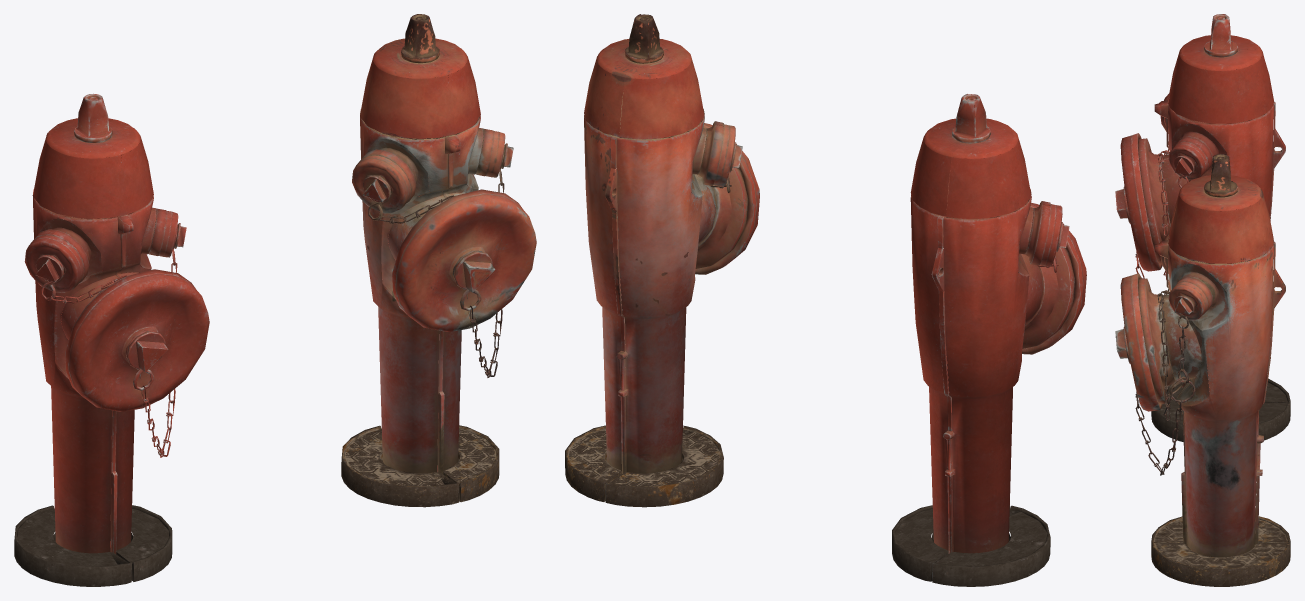
File: fire_hydrant.gltf
3 renders of one model, left to right at view 1: azimuth 30°, elevation 25°; view 2: azimuth 150°, elevation 25°; view 3: azimuth 270°, elevation 25°, orthographic. The views are drawn at different scales.
Visible parts, largest first — view 1: fire_hydrant, fire_hydrant_aged, fire_hydrant_cap_01_aged, fire_hydrant_cap_01, fire_hydrant_cap_03, fire_hydrant_cap_03_aged, fire_hydrant_chain, fire_hydrant_chain_aged, fire_hydrant_cap_02_aged, fire_hydrant_cap_02; view 2: fire_hydrant_aged, fire_hydrant, fire_hydrant_cap_01, fire_hydrant_cap_01_aged, fire_hydrant_cap_03, fire_hydrant_cap_03_aged; view 3: fire_hydrant_aged, fire_hydrant, fire_hydrant_cap_01_aged, fire_hydrant_cap_01, fire_hydrant_chain_aged, fire_hydrant_cap_02_aged, fire_hydrant_cap_02, fire_hydrant_chain.
Part boxes in pixels (box(x1,y1,x2,y2)): fire_hydrant: box(14, 93, 172, 586); fire_hydrant_aged: box(341, 14, 499, 507); fire_hydrant_cap_01_aged: box(392, 189, 536, 331); fire_hydrant_cap_01: box(65, 269, 209, 411); fire_hydrant_cap_03: box(24, 235, 83, 292); fire_hydrant_cap_03_aged: box(352, 155, 410, 213); fire_hydrant_chain: box(40, 225, 178, 457); fire_hydrant_chain_aged: box(366, 145, 505, 377); fire_hydrant_cap_02_aged: box(486, 131, 513, 177); fire_hydrant_cap_02: box(158, 211, 186, 257); fire_hydrant_aged: box(565, 14, 747, 507); fire_hydrant: box(892, 94, 1074, 586); fire_hydrant_cap_01: box(1022, 202, 1086, 354); fire_hydrant_cap_01_aged: box(695, 123, 759, 274); fire_hydrant_cap_03: box(1040, 204, 1069, 266); fire_hydrant_cap_03_aged: box(713, 124, 742, 186); fire_hydrant_aged: box(1138, 154, 1290, 586); fire_hydrant: box(1138, 14, 1290, 441); fire_hydrant_cap_01_aged: box(1115, 273, 1162, 411); fire_hydrant_cap_01: box(1115, 133, 1162, 271); fire_hydrant_chain_aged: box(1135, 289, 1195, 475); fire_hydrant_cap_02_aged: box(1168, 281, 1208, 320); fire_hydrant_cap_02: box(1168, 141, 1208, 180); fire_hydrant_chain: box(1135, 149, 1194, 280).
Bounding box in the file's own units: 0.8745 × 0.8003 × 0.3176.
2 materials, 2 textured.
